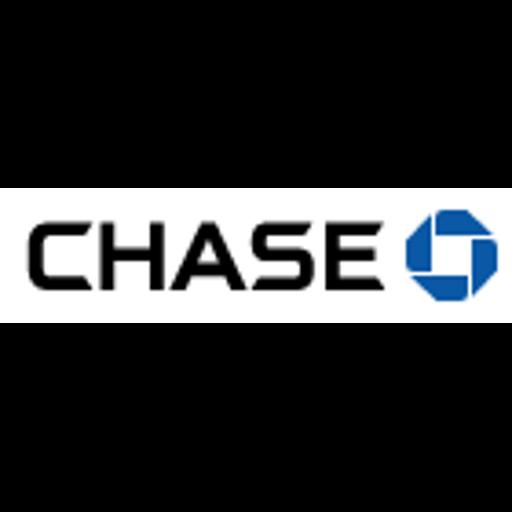Chase Personal Banking: (0, 188, 512, 323)
